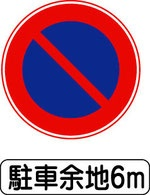Prohibition_sign: (3, 1, 141, 138)
